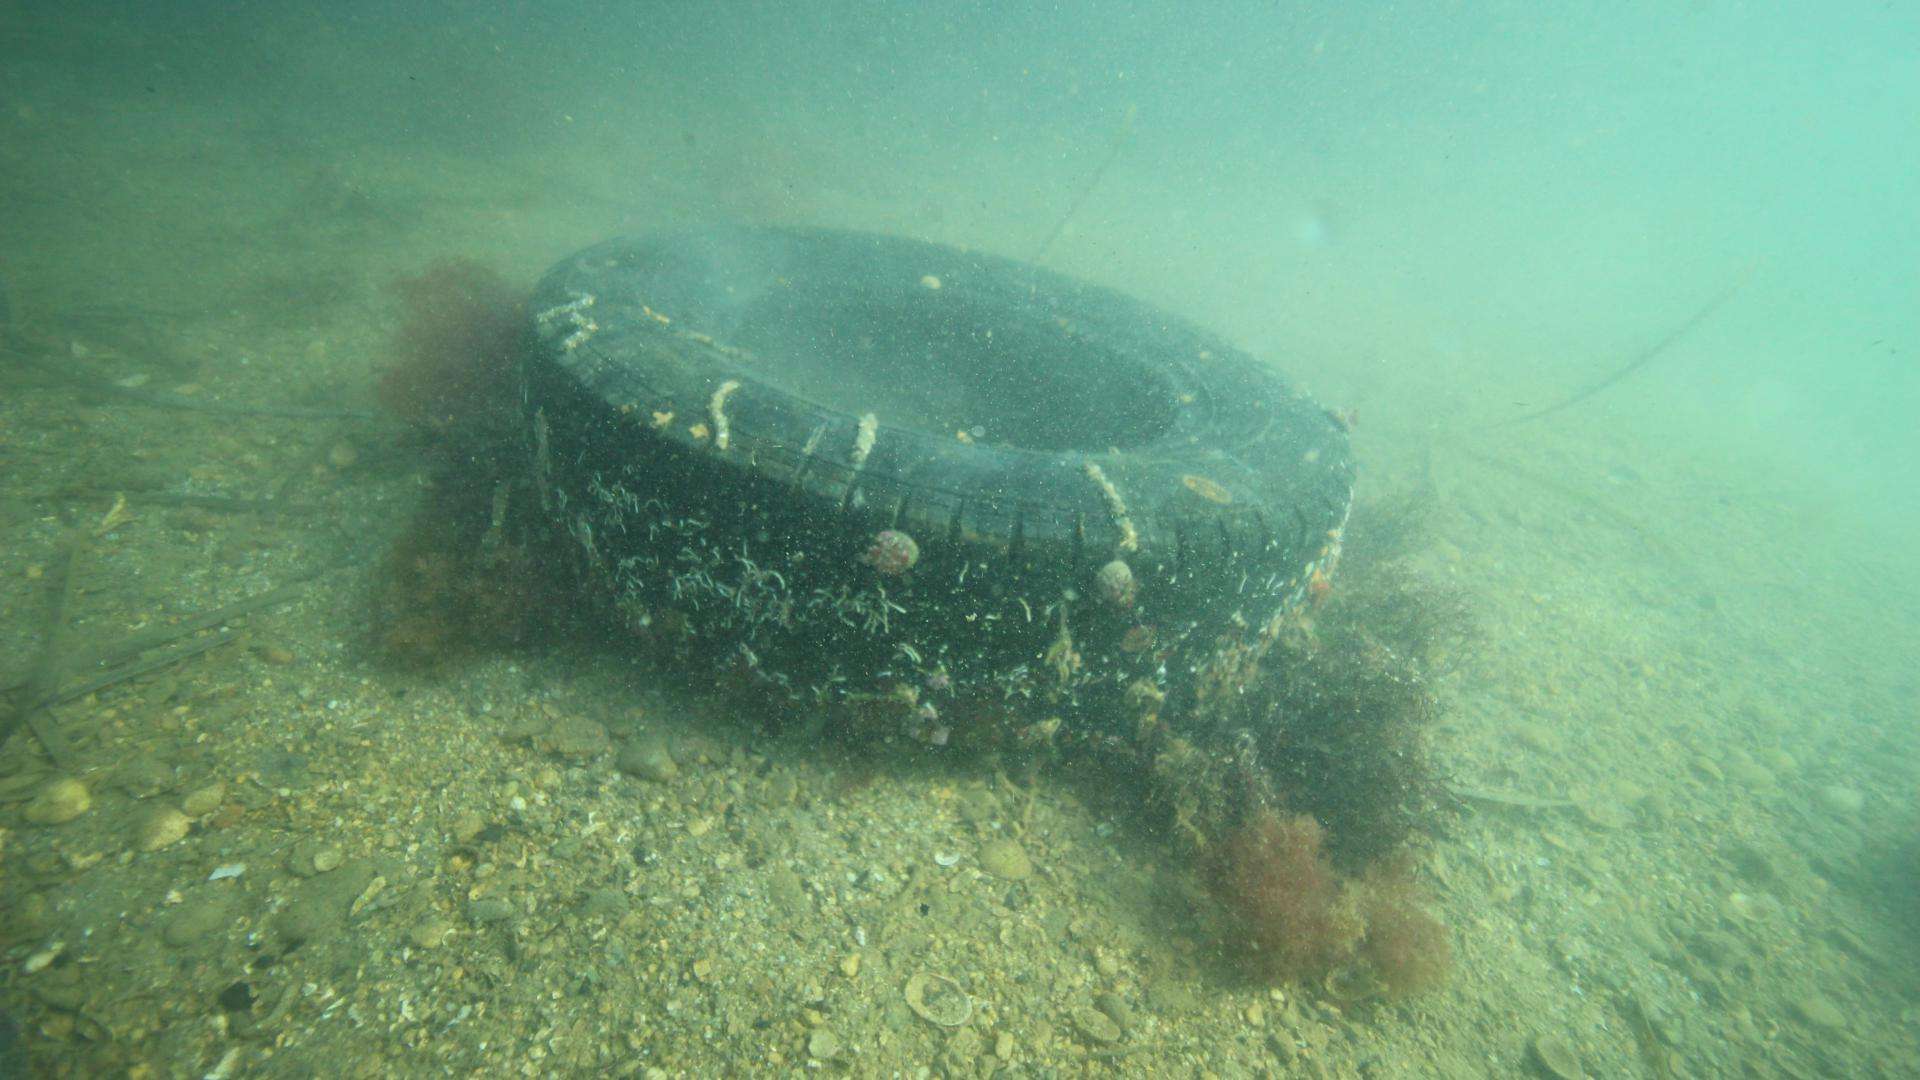tire: (509, 215, 1356, 766)
